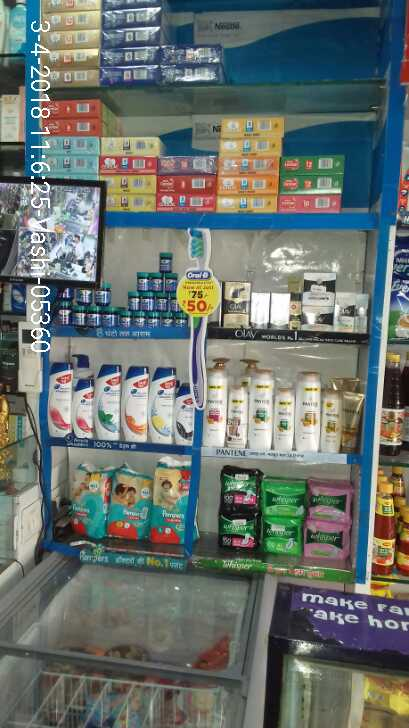vicks: (95, 281, 111, 305), (59, 302, 73, 325), (99, 308, 116, 325), (84, 306, 99, 325), (116, 308, 128, 328), (129, 312, 144, 328), (144, 312, 160, 327), (165, 294, 182, 308), (137, 272, 151, 289), (79, 286, 92, 304), (166, 274, 178, 293), (151, 274, 166, 289), (73, 306, 84, 325), (152, 292, 165, 308), (160, 251, 171, 269), (173, 312, 187, 326), (160, 312, 173, 327), (127, 293, 140, 307), (140, 292, 152, 307)
